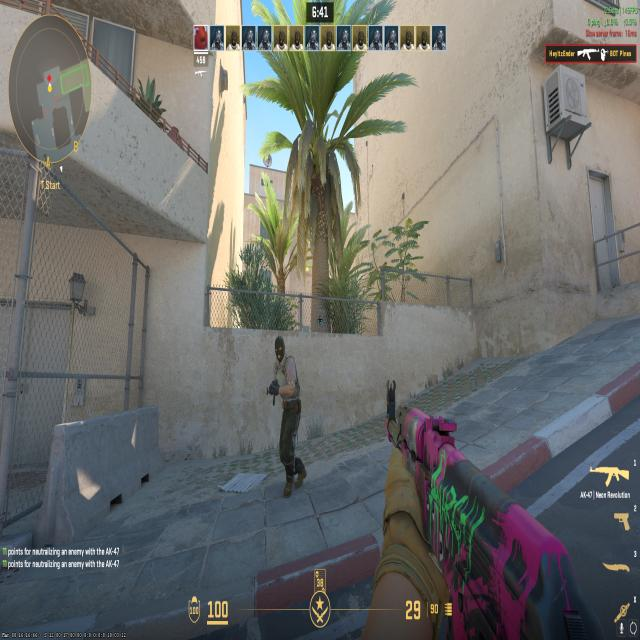t: (261, 330, 310, 504)
